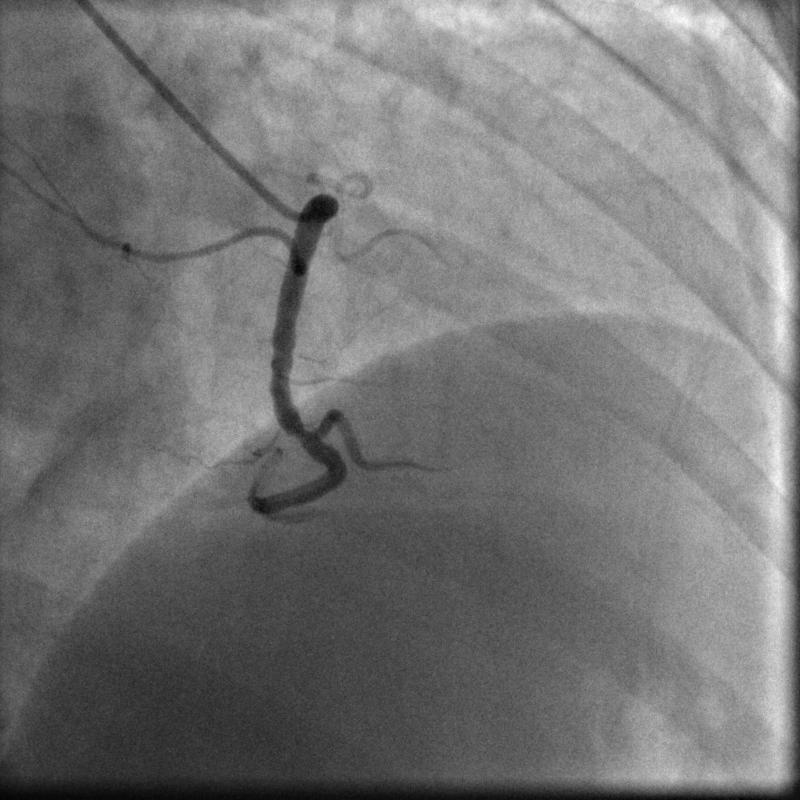Stenosis: (279, 422, 329, 448)
